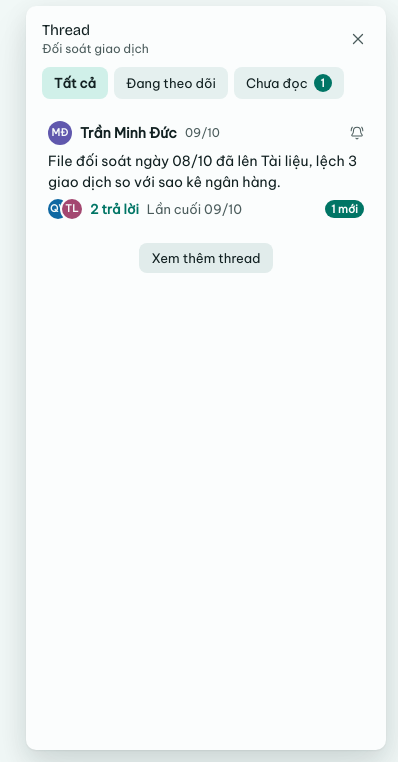
Test: ThreadsPanel › pages with the last thread's time and root as the cursor
The image size is (398, 762).
Expected: the list named "Thread" is shown, [30, 109, 382, 231]
Step 1. Click the button "Xem thêm thread" → {"x": 206, "y": 258}, box [139, 243, 273, 273]
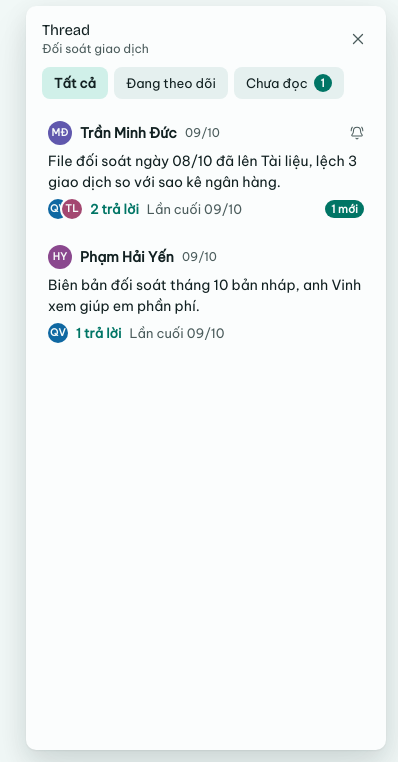
Expected: the button "Xem thêm thread" is gone
